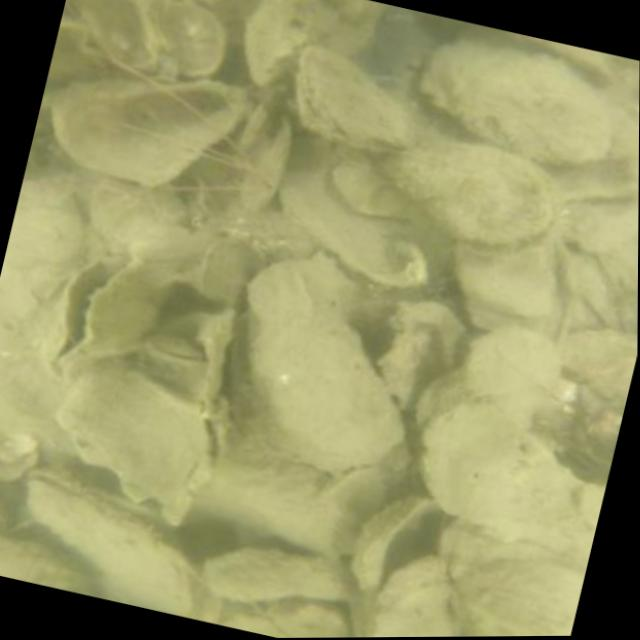Oyster-Indeterminate: (223, 254, 408, 472), (410, 29, 621, 167), (419, 398, 591, 563), (15, 471, 195, 617), (370, 143, 556, 247), (293, 40, 414, 155), (437, 521, 549, 637), (198, 544, 371, 605), (236, 120, 291, 218)
Oyster-Open: (46, 264, 177, 373)
